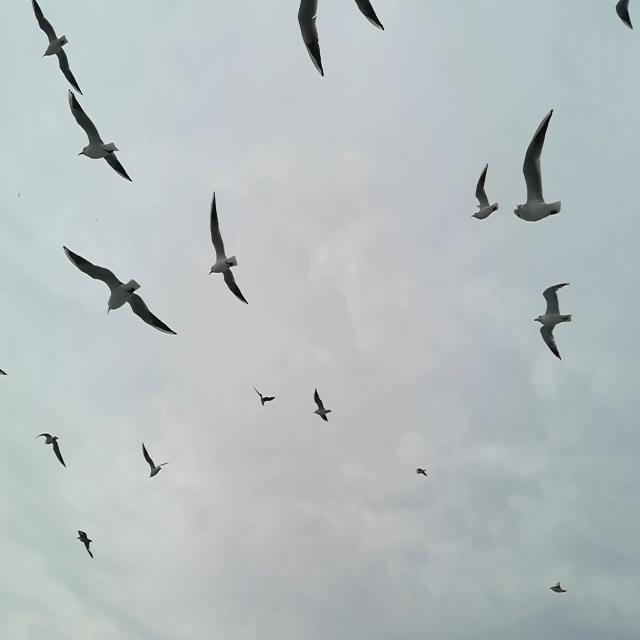bird: (63, 245, 178, 336), (68, 89, 134, 185), (514, 110, 561, 223), (31, 0, 83, 97), (206, 191, 248, 307), (533, 282, 572, 362), (296, 0, 325, 78), (471, 162, 498, 222), (142, 442, 171, 480), (36, 433, 66, 469), (354, 0, 385, 32), (312, 386, 332, 424), (75, 529, 95, 559), (614, 0, 633, 30), (252, 385, 276, 407), (549, 581, 567, 594), (415, 467, 428, 477), (0, 368, 7, 378), (18, 192, 20, 198), (95, 219, 97, 223), (86, 220, 88, 222)
